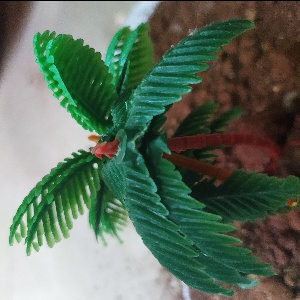plant: (14, 15, 300, 293)
